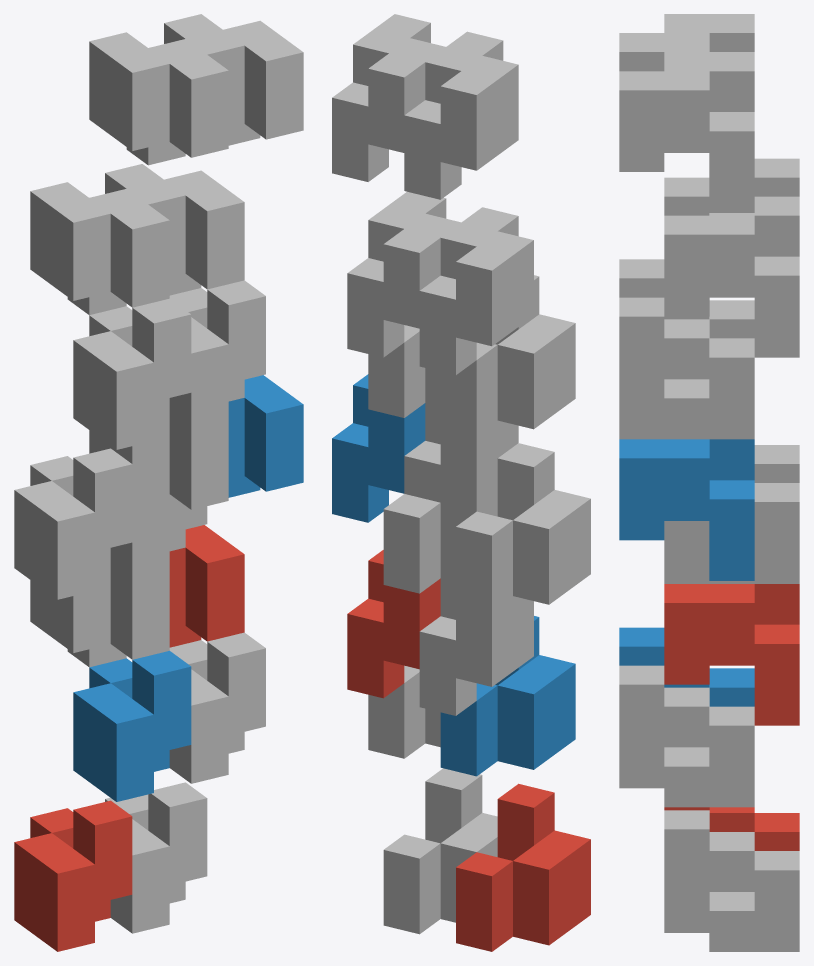
File: tiling.obj
3 renders of one model, left to right at view 1: azimuth 30°, elevation 25°; view 2: azimuth 150°, elevation 25°; view 3: azimuth 270°, elevation 25°, orthographic. The views are drawn at different scales.
Visible parts, largest first — view 1: copy_2_domain_4, copy_2_domain_3, copy_1_domain_1, copy_1_domain_4, copy_1_domain_3, copy_1_domain_2, copy_2_domain_7, copy_2_domain_8, copy_1_domain_8, copy_1_domain_6, copy_1_domain_5, copy_2_domain_1 (+4 smaller); view 2: copy_1_domain_1, copy_1_domain_3, copy_2_domain_3, copy_2_domain_4, copy_1_domain_2, copy_1_domain_4, copy_2_domain_8, copy_1_domain_5, copy_2_domain_7, copy_2_domain_1, copy_2_domain_5, copy_2_domain_6 (+4 smaller); view 3: copy_2_domain_8, copy_2_domain_7, copy_1_domain_6, copy_1_domain_8, copy_1_domain_5, copy_2_domain_6, copy_2_domain_5, copy_1_domain_7, copy_2_domain_4, copy_1_domain_2, copy_1_domain_4, copy_2_domain_3 (+4 smaller).
Part boxes in pixels (box(x1,y1,x2,y2)): copy_2_domain_4: box(89, 32, 228, 165); copy_2_domain_3: box(30, 182, 169, 315); copy_1_domain_1: box(14, 800, 132, 951); copy_1_domain_4: box(73, 298, 191, 449); copy_1_domain_3: box(14, 448, 132, 599); copy_1_domain_2: box(73, 650, 191, 801); copy_2_domain_7: box(105, 164, 244, 295); copy_2_domain_8: box(164, 14, 303, 145); copy_1_domain_8: box(169, 280, 265, 431); copy_1_domain_6: box(169, 632, 265, 783); copy_1_domain_5: box(105, 782, 207, 933); copy_2_domain_1: box(30, 566, 169, 667); copy_1_domain_1: box(456, 783, 590, 951); copy_1_domain_3: box(456, 443, 590, 611); copy_2_domain_3: box(419, 207, 533, 375); copy_2_domain_4: box(404, 31, 518, 199); copy_1_domain_2: box(440, 616, 575, 776); copy_1_domain_4: box(440, 275, 575, 435); copy_2_domain_8: box(332, 14, 445, 181); copy_1_domain_5: box(383, 768, 497, 934); copy_2_domain_7: box(347, 191, 460, 357); copy_2_domain_1: box(419, 578, 533, 715); copy_2_domain_5: box(347, 550, 440, 698); copy_2_domain_6: box(332, 374, 425, 522); copy_2_domain_8: box(619, 52, 754, 212); copy_2_domain_7: box(664, 196, 799, 357); copy_1_domain_6: box(619, 665, 754, 807); copy_1_domain_8: box(619, 297, 754, 439); copy_1_domain_5: box(664, 810, 799, 951); copy_2_domain_6: box(619, 439, 754, 580); copy_2_domain_5: box(664, 584, 799, 725); copy_1_domain_7: box(664, 483, 799, 583); copy_2_domain_4: box(619, 14, 754, 71); copy_1_domain_2: box(619, 627, 754, 706); copy_1_domain_4: box(619, 259, 754, 338); copy_2_domain_3: box(664, 158, 799, 215).
Size of the model in its own units: 6 by 22 by 4.
